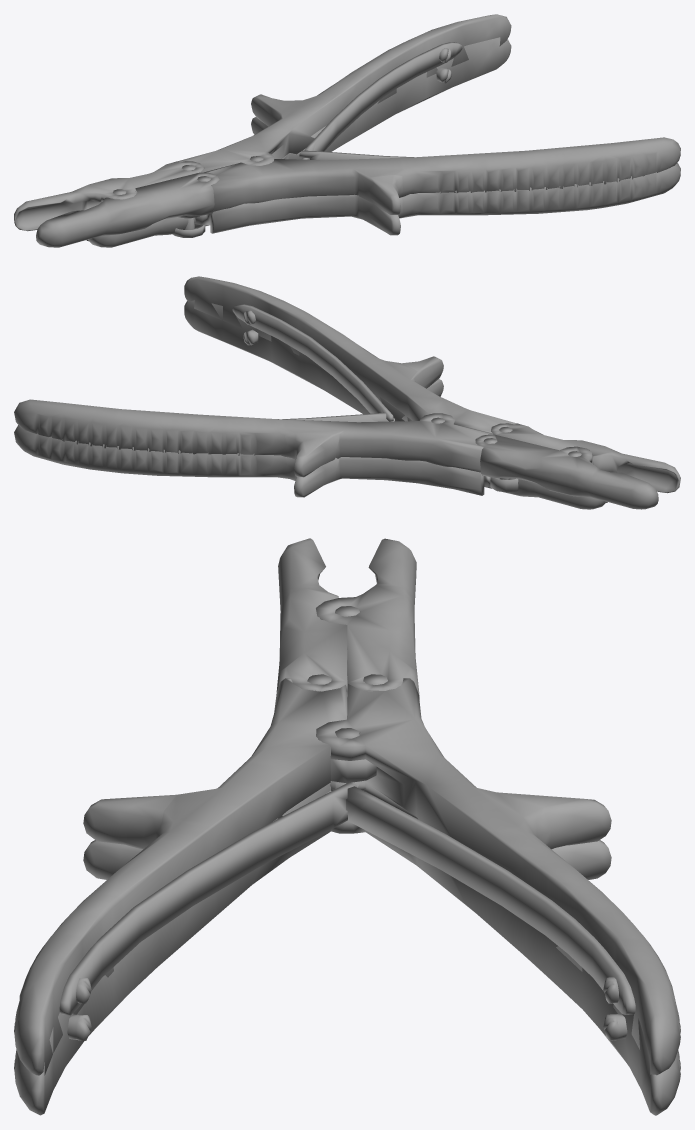
File: instrument_bone_rongeurs_b01.glb
3 views of the same model, one above another, from view 1: azimuth 30°, elevation 25°; view 2: azimuth 150°, elevation 25°; view 3: azimuth 270°, elevation 25° (orthographic). The views are drawn at different scales.
Visible parts, largest first — view 1: handleLeft_01_mesh_00 (×2), handleRight_01_mesh_00 (×2), jawLeft_01_mesh_00 (×2), jawrRght_01_mesh_00 (×2), springRight_01_mesh_00, springLeft_01_mesh_00; view 2: handleRight_01_mesh_00 (×2), handleLeft_01_mesh_00 (×2), jawrRght_01_mesh_00 (×2), jawLeft_01_mesh_00 (×2), springLeft_01_mesh_00, springRight_01_mesh_00; view 3: handleRight_01_mesh_00 (×2), handleLeft_01_mesh_00 (×2), springLeft_01_mesh_00, springRight_01_mesh_00, jawrRght_01_mesh_00, jawLeft_01_mesh_00.
Part boxes in pixels (bbox=[...]): handleLeft_01_mesh_00 (×2): bbox=[195, 137, 680, 235]; handleRight_01_mesh_00 (×2): bbox=[178, 14, 511, 172]; jawLeft_01_mesh_00 (×2): bbox=[36, 172, 219, 247]; jawrRght_01_mesh_00 (×2): bbox=[14, 161, 209, 241]; springRight_01_mesh_00: bbox=[301, 42, 462, 159]; springLeft_01_mesh_00: bbox=[299, 150, 413, 160]; handleRight_01_mesh_00 (×2): bbox=[14, 399, 499, 497]; handleLeft_01_mesh_00 (×2): bbox=[184, 276, 516, 434]; jawrRght_01_mesh_00 (×2): bbox=[475, 434, 658, 509]; jawLeft_01_mesh_00 (×2): bbox=[485, 423, 680, 502]; springLeft_01_mesh_00: bbox=[232, 304, 393, 421]; springRight_01_mesh_00: bbox=[282, 412, 394, 422]; handleRight_01_mesh_00 (×2): bbox=[316, 678, 680, 1115]; handleLeft_01_mesh_00 (×2): bbox=[14, 678, 376, 1115]; springLeft_01_mesh_00: bbox=[59, 782, 356, 1015]; springRight_01_mesh_00: bbox=[346, 786, 635, 1014]; jawrRght_01_mesh_00: bbox=[316, 538, 419, 699]; jawLeft_01_mesh_00: bbox=[276, 538, 347, 694].
Bounding box in the file's own units: 0.2361 × 0.0241 × 0.1308.
Materials: 6 (6 with a texture image).
